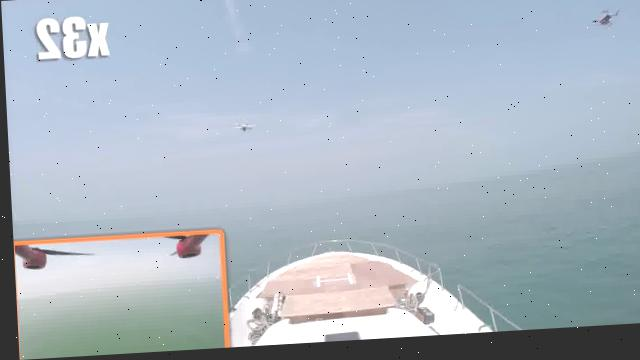drone: (578, 8, 626, 42), (225, 117, 259, 141)
